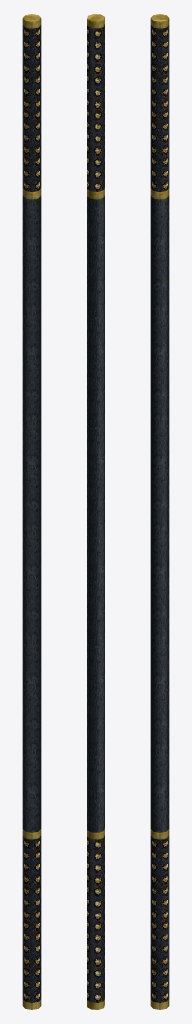
Rendered from wp_mle_lance_staff_wood_s02_l0.fbx.
3 views of the same model, side by side, from view 1: azimuth 90°, elevation 25°; view 2: azimuth 150°, elevation 25°; view 3: azimuth 270°, elevation 25° (orthographic).
Parts seen in each view (by area): view 1: mesh_node; view 2: mesh_node; view 3: mesh_node.
Boxes of the visible parts, bbox=[...] form: mesh_node: bbox=[22, 14, 41, 1009]; mesh_node: bbox=[87, 14, 104, 1009]; mesh_node: bbox=[150, 14, 169, 1009].
Bounding box in the file's own units: 0.0389 × 2.3 × 0.0389.
